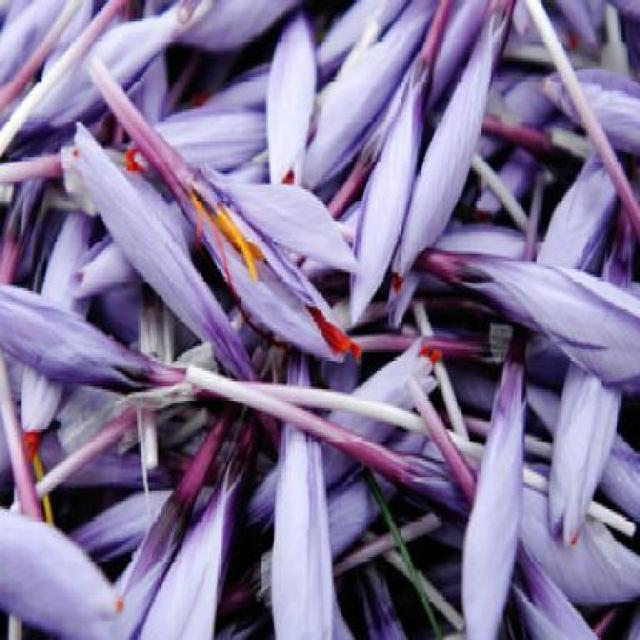Flower: (161, 136, 365, 361), (444, 223, 640, 384), (408, 12, 517, 262), (0, 272, 169, 416), (458, 343, 531, 639), (274, 368, 352, 637)
